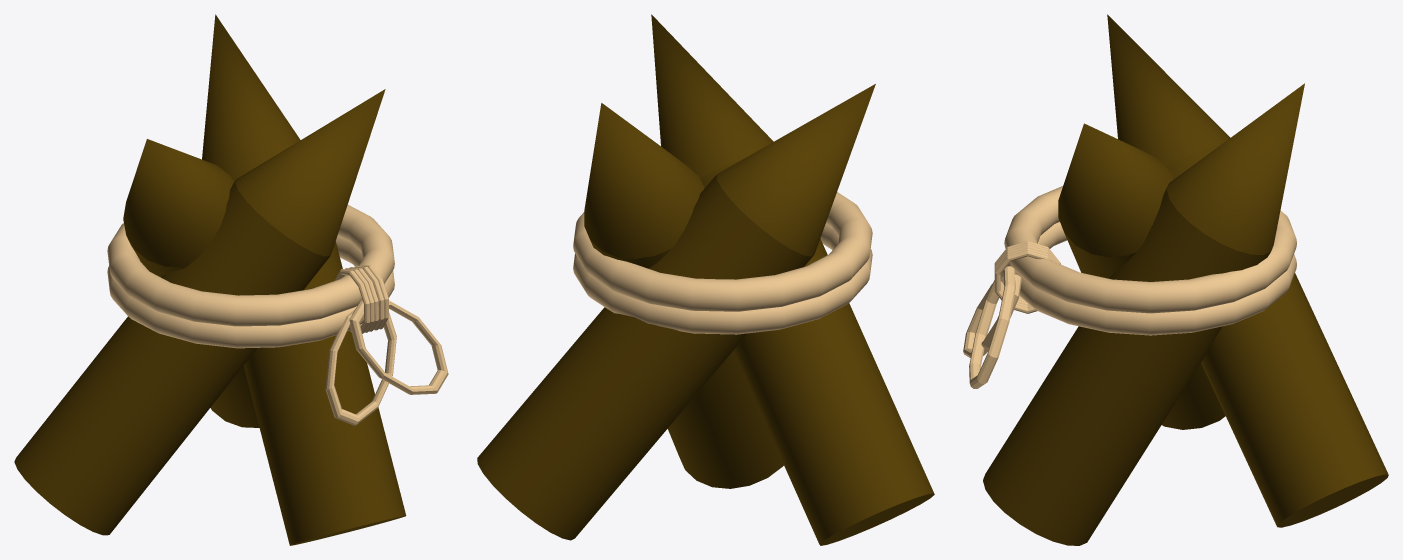
Rendered from Wall.fbx.
3 views of the same model, side by side, from view 1: azimuth 30°, elevation 25°; view 2: azimuth 150°, elevation 25°; view 3: azimuth 270°, elevation 25° (orthographic). The views are drawn at different scales.
Visible parts, largest first — view 1: pCylinder3, pCylinder1, pCylinder2, pTorus1, pTorus2, pTorus9, pTorus8, pTorus3; view 2: pCylinder2, pCylinder3, pCylinder1, pTorus1, pTorus2; view 3: pCylinder1, pCylinder2, pCylinder3, pTorus1, pTorus2, pTorus9, pTorus8, pTorus7.
Boxes of the visible parts, <box> form: pCylinder3: <box>14,89,385,535</box>; pCylinder1: <box>202,14,406,545</box>; pCylinder2: <box>123,139,259,427</box>; pTorus1: <box>107,205,394,326</box>; pTorus2: <box>107,235,394,348</box>; pTorus9: <box>349,300,448,394</box>; pTorus8: <box>325,309,396,425</box>; pTorus3: <box>334,269,369,333</box>; pCylinder2: <box>477,84,875,540</box>; pCylinder3: <box>651,14,934,545</box>; pCylinder1: <box>584,103,783,488</box>; pTorus1: <box>573,192,872,311</box>; pTorus2: <box>573,224,872,334</box>; pCylinder1: <box>983,83,1304,545</box>; pCylinder2: <box>1107,14,1388,527</box>; pCylinder3: <box>1058,123,1225,429</box>; pTorus1: <box>1004,186,1296,313</box>; pTorus2: <box>1006,222,1296,335</box>; pTorus9: <box>969,266,1015,388</box>; pTorus8: <box>963,274,1021,357</box>; pTorus7: <box>994,250,1050,313</box>.
Size of the model in its own units: 6.74 by 8.1 by 6.9.
